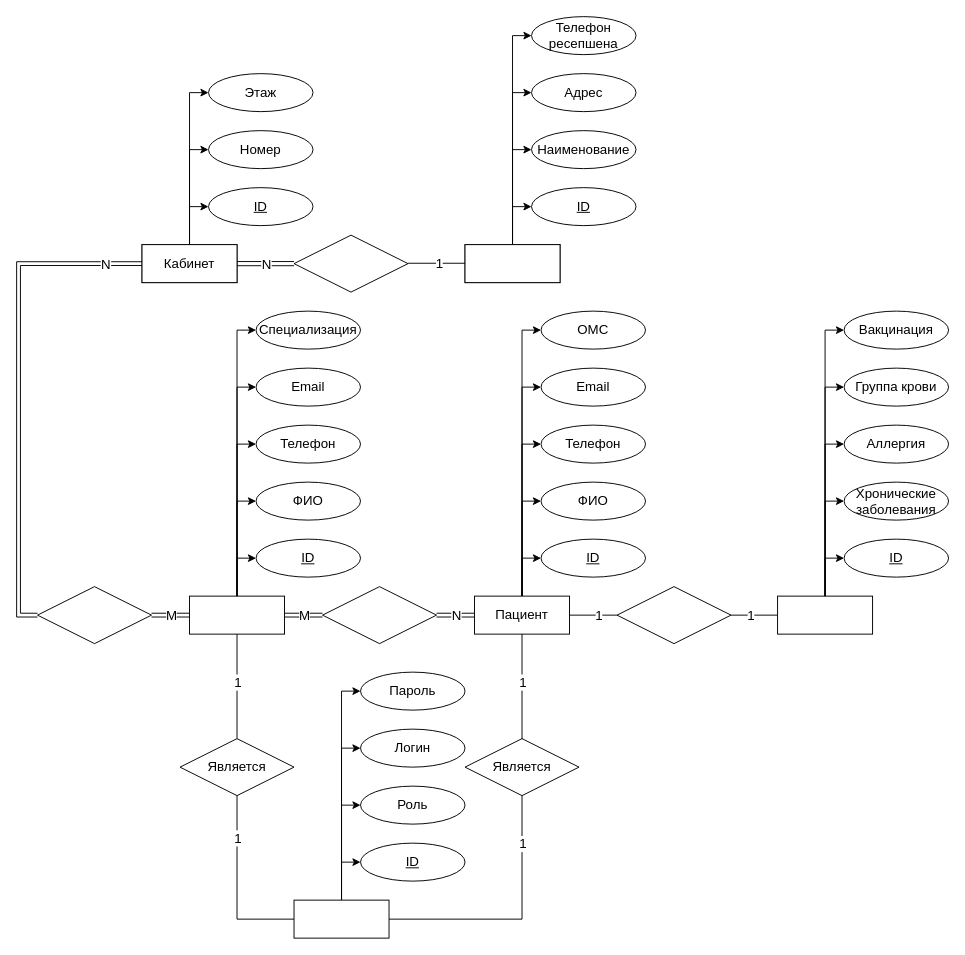
Some shapes in this 965 by 955 pixel diagram are drawn without their labels. Each missing label, with the centre of its shape:
"Врач" belongs at point (237, 614).
"Записан" belongs at point (379, 615).
"Имеет" belongs at point (673, 615).
"Медицинская карта" belongs at point (825, 614).
"Находится" belongs at point (350, 263).
"Пользователь" belongs at point (341, 918).
"Работает" belongs at point (94, 615).
"Филиал" belongs at point (512, 263).
